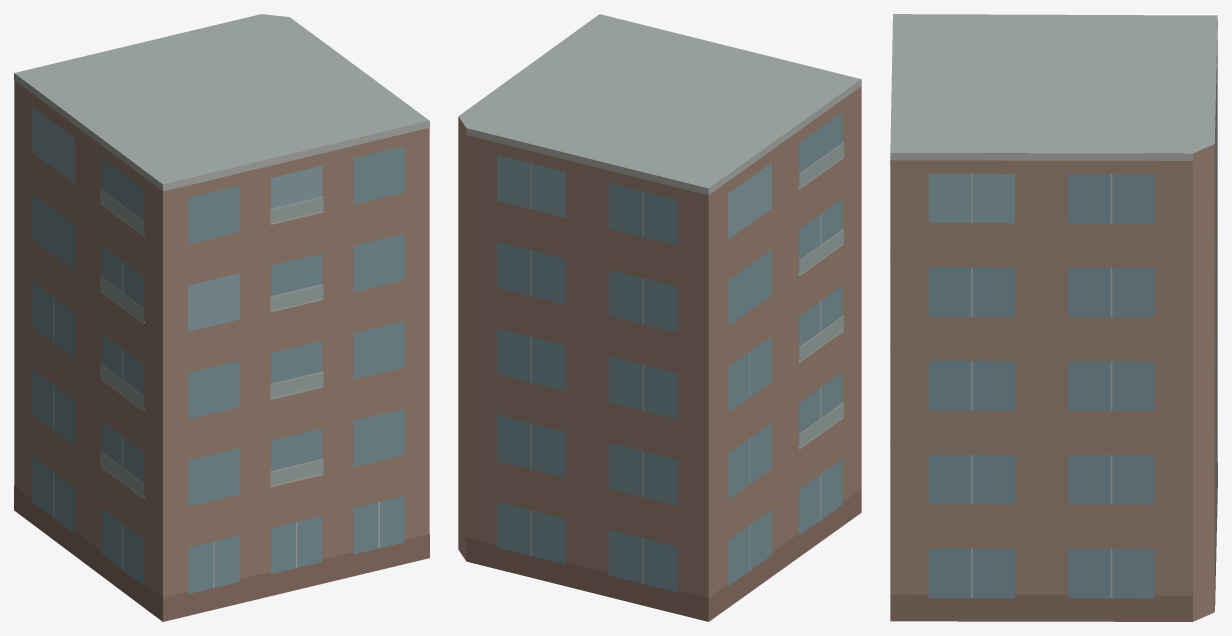
The model's file is survey-upis-32773719.glb.
3 renders of one model, left to right at view 1: azimuth 30°, elevation 25°; view 2: azimuth 150°, elevation 25°; view 3: azimuth 270°, elevation 25°, orthographic. The views are drawn at different scales.
Parts seen in each view (by area): view 1: survey-upis-32773719.tmp; view 2: survey-upis-32773719.tmp; view 3: survey-upis-32773719.tmp.
Part boxes in pixels (<box>): survey-upis-32773719.tmp: <box>14,14,429,621</box>; survey-upis-32773719.tmp: <box>458,14,861,621</box>; survey-upis-32773719.tmp: <box>890,14,1217,621</box>.
Bounding box in the file's own units: 9.87 × 15.4 × 9.77.
